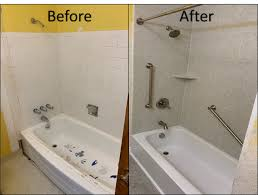bathub: (130, 122, 253, 194), (16, 114, 121, 195)
